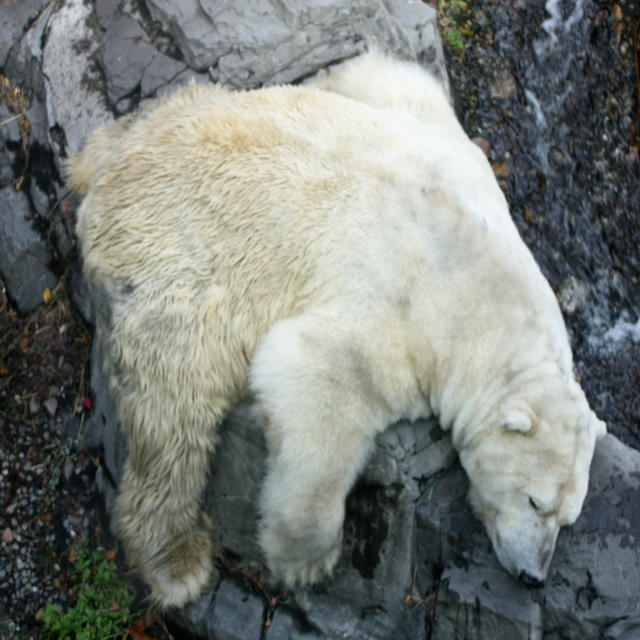Polar bear: (60, 52, 604, 608)
